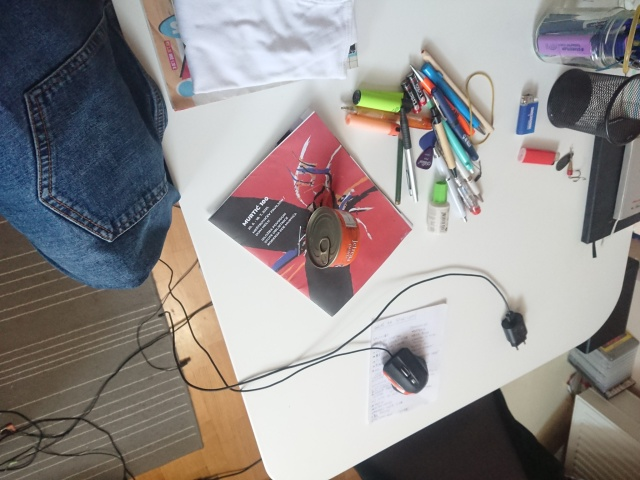Gavrilovic Pork Liver Pate 100g: (302, 203, 362, 270)
